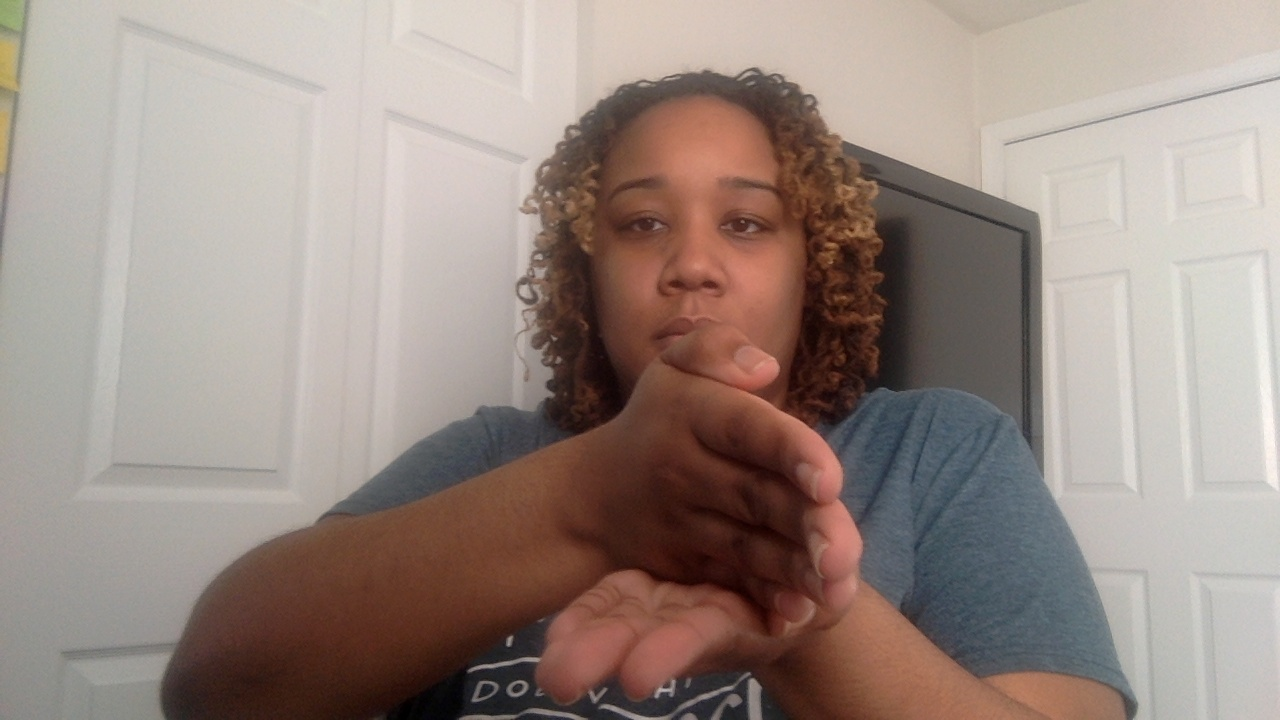stop: (495, 323, 882, 720)
